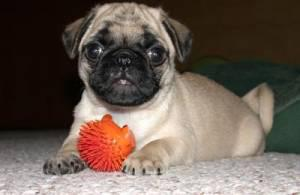dog-pug: (60, 0, 192, 102)
